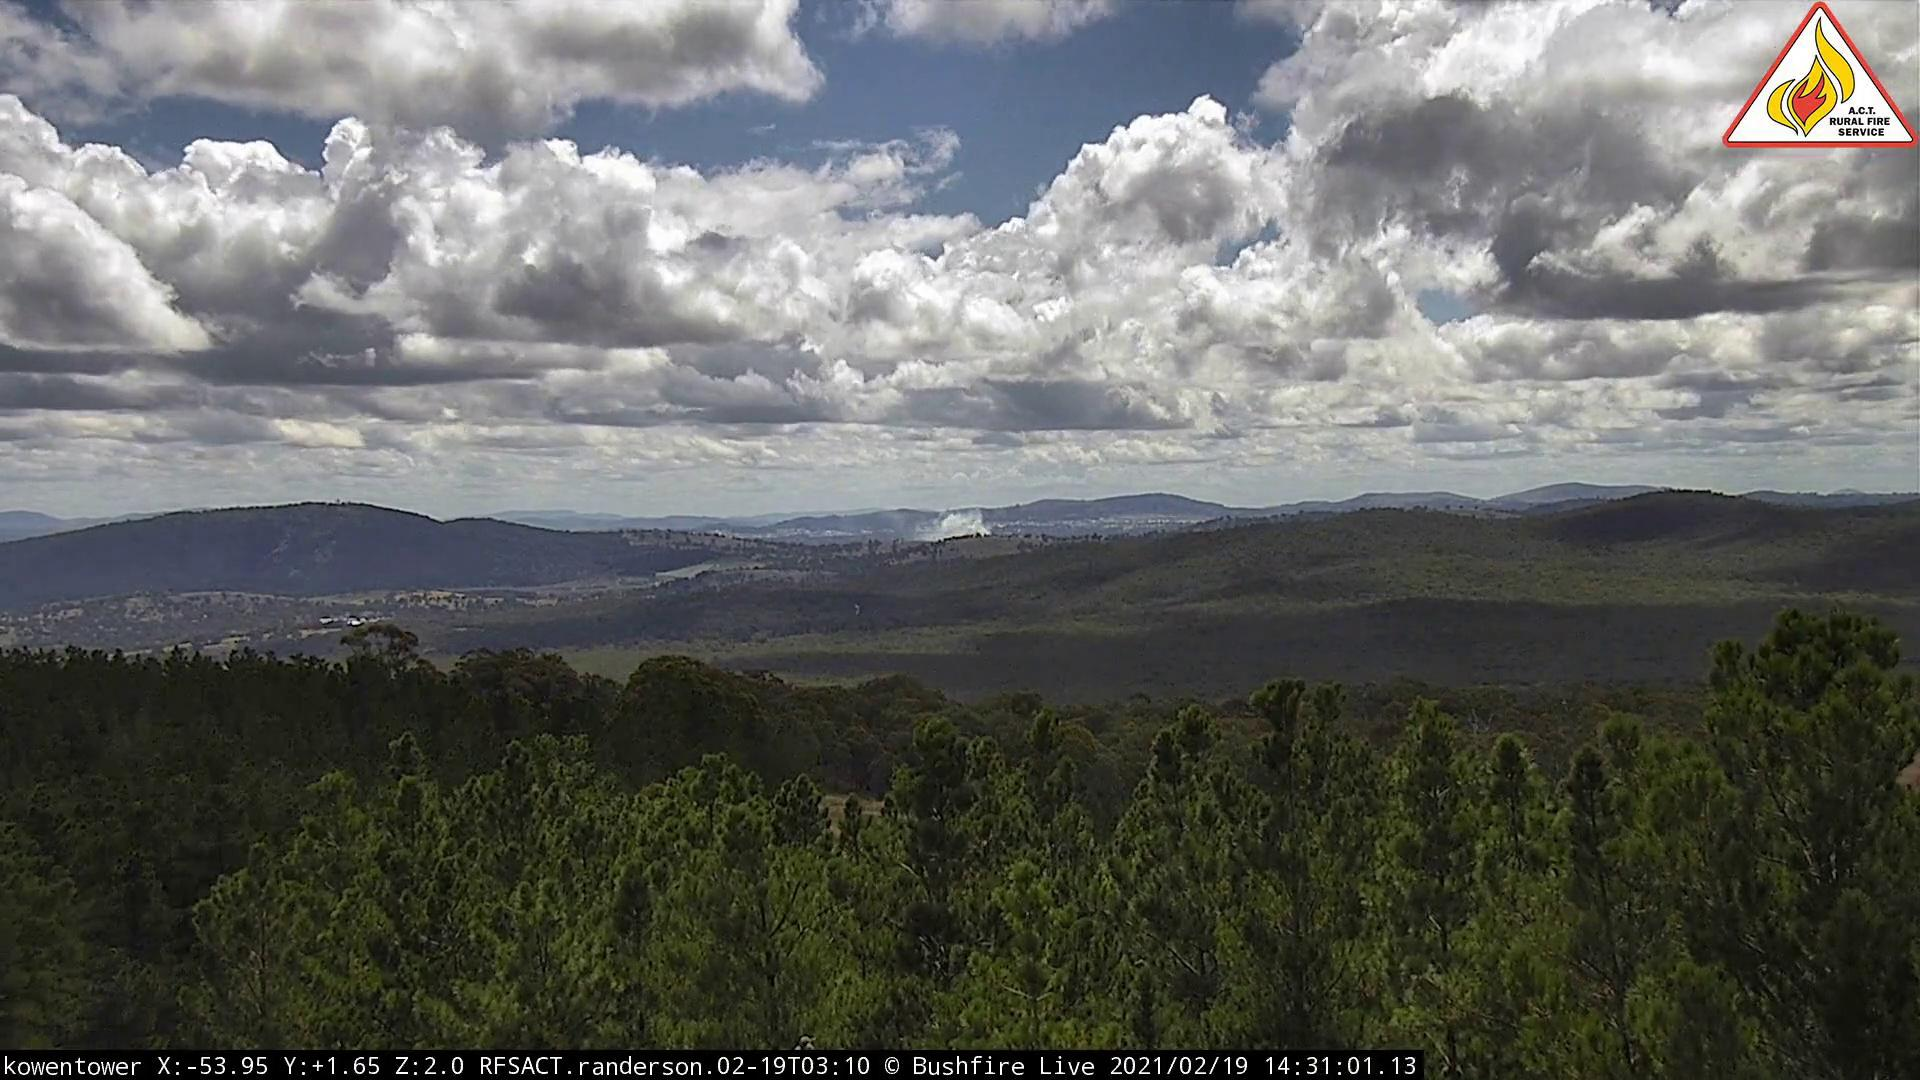Smoke: (895, 498, 1001, 553)
